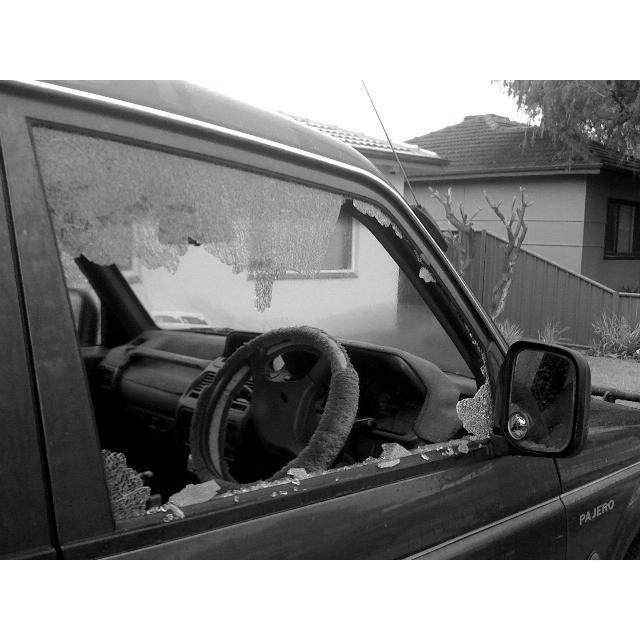doorouter-dent: (34, 109, 468, 559)
